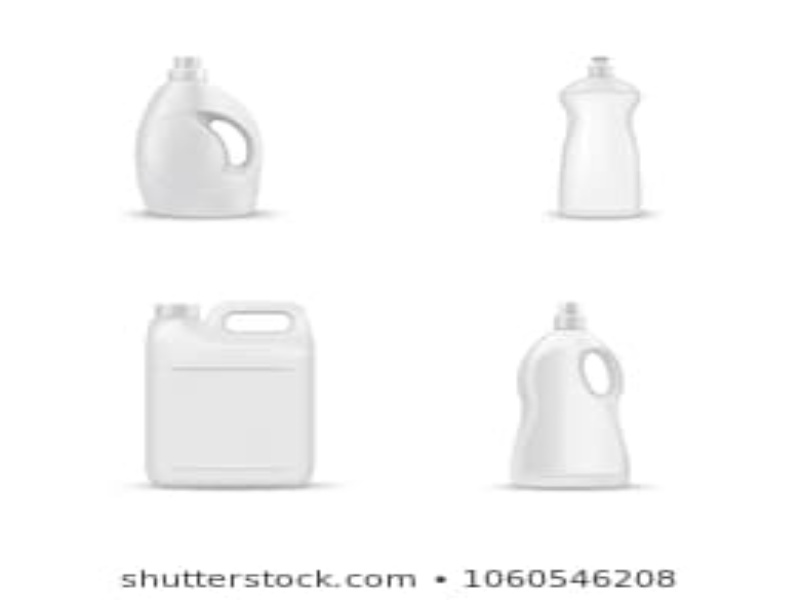detergent-bottle: (142, 297, 316, 494), (505, 302, 635, 494), (131, 51, 267, 221), (550, 54, 644, 222)
